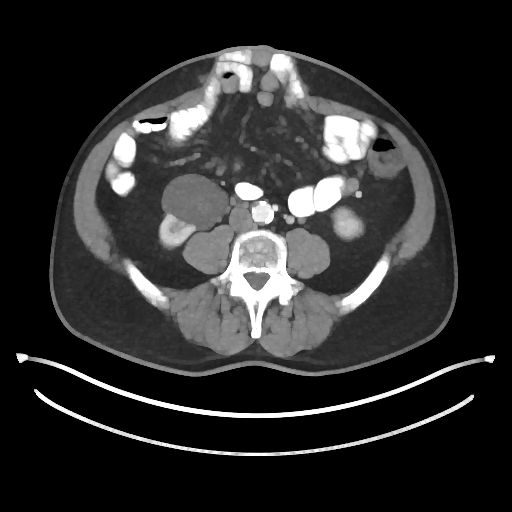Lesion: (160, 175, 232, 225)
